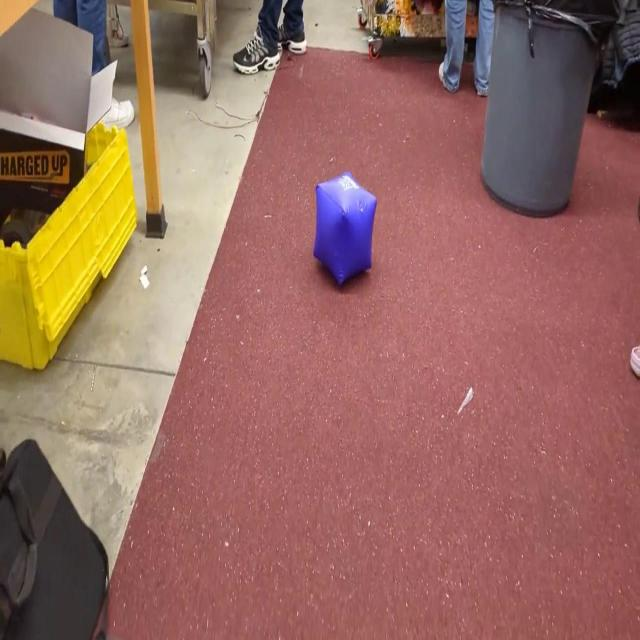frc_cube: (313, 167, 377, 291)
